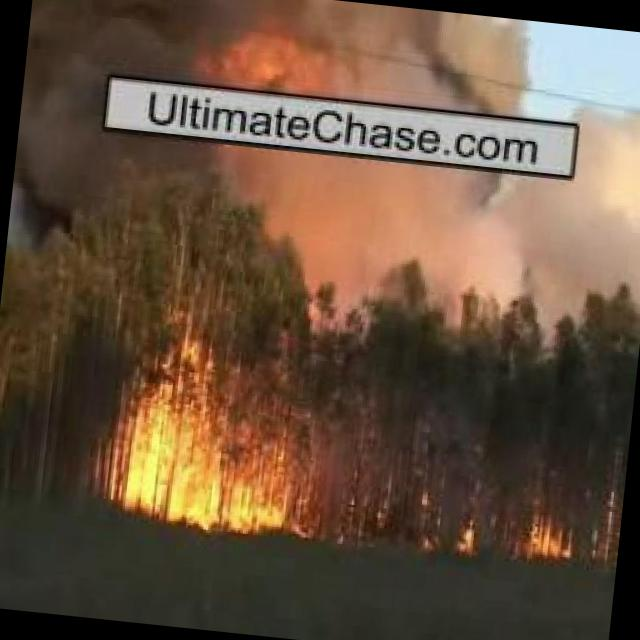Fire: (96, 328, 315, 538), (408, 484, 480, 556), (514, 514, 580, 563)
Smoke: (246, 146, 640, 333), (25, 0, 538, 118)
